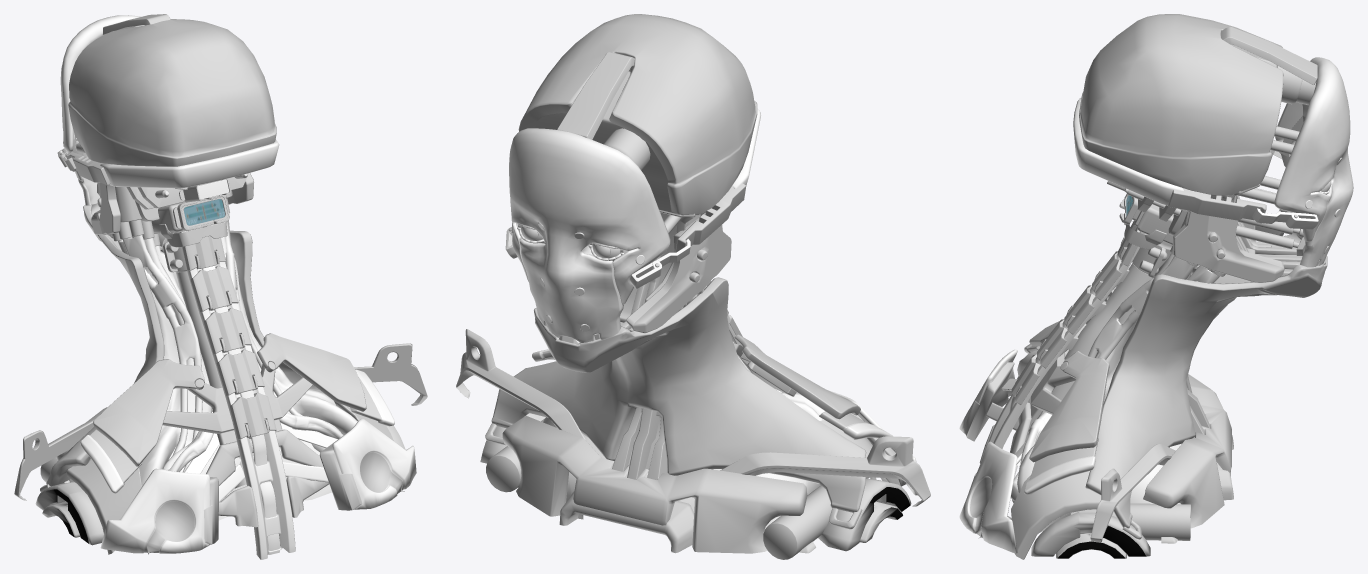
The picture shows the model from 3 angles, left to right: view 1: azimuth 30°, elevation 25°; view 2: azimuth 150°, elevation 25°; view 3: azimuth 270°, elevation 25°; orthographic projection. The views are drawn at different scales.
Parts seen in each view (by area): view 1: node_Object001_-5720, node_cables_-5610, node_mesh_Adam_spine_-5718, node_Adam_BloodyHeadBracket_-5606, node_mesh_Adam_mask_-5716, node_Adam_monitor_back_-5608; view 2: node_Object001_-5720, node_mesh_Adam_mask_-5716; view 3: node_Object001_-5720, node_mesh_Adam_mask_-5716, node_cables_-5610, node_Adam_BloodyHeadBracket_-5606, node_mesh_Adam_spine_-5718.
Part boxes in pixels (x1,y1,x2,y2): node_Object001_-5720: (14, 14, 427, 554); node_cables_-5610: (122, 220, 357, 486); node_mesh_Adam_spine_-5718: (178, 224, 295, 559); node_Adam_BloodyHeadBracket_-5606: (100, 139, 279, 188); node_mesh_Adam_mask_-5716: (60, 15, 144, 205); node_Adam_monitor_back_-5608: (184, 199, 225, 225); node_Object001_-5720: (456, 14, 930, 559); node_mesh_Adam_mask_-5716: (509, 128, 670, 344); node_Object001_-5720: (959, 14, 1327, 559); node_mesh_Adam_mask_-5716: (1274, 57, 1353, 267); node_cables_-5610: (1013, 253, 1194, 492); node_Adam_BloodyHeadBracket_-5606: (1073, 98, 1184, 205); node_mesh_Adam_spine_-5718: (981, 231, 1144, 460).
Bounding box in the file's own units: 3.76 × 3.99 × 2.98.
14 materials, 1 textured.
